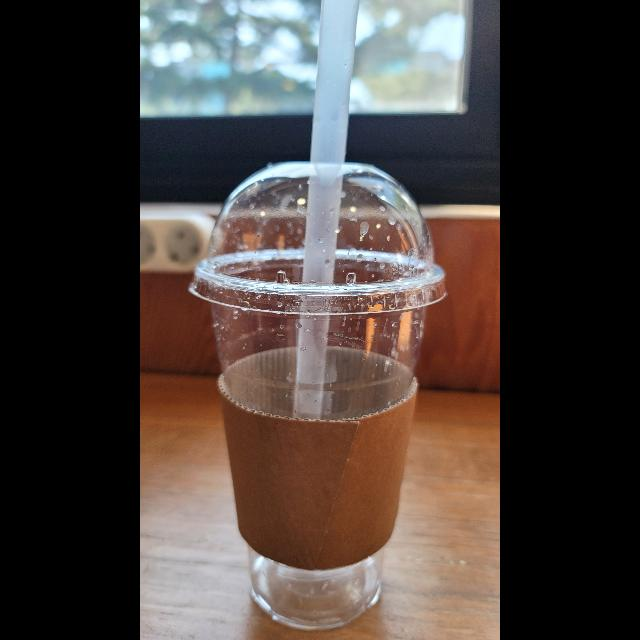plastic_cup: (187, 158, 449, 634)
plastic_cup_lid: (190, 160, 448, 316)
straw: (294, 0, 361, 410)
